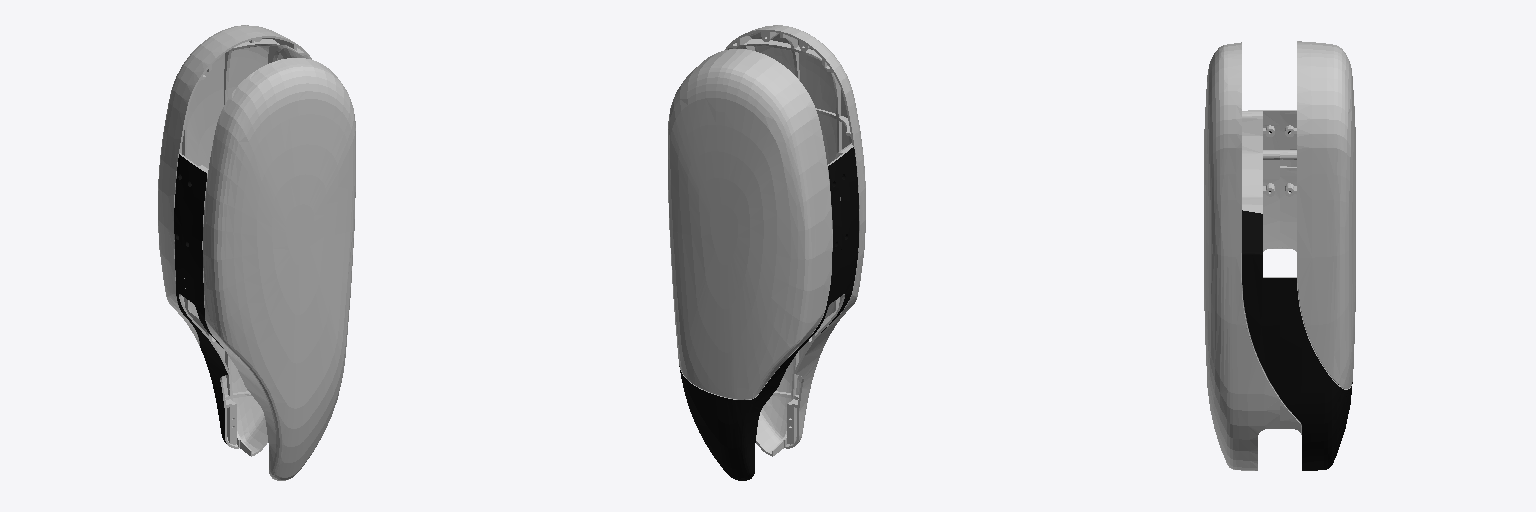
Rendered from left_leg_pitch_link.obj.
3 views of the same model, side by side, from view 1: azimuth 30°, elevation 25°; view 2: azimuth 150°, elevation 25°; view 3: azimuth 270°, elevation 25° (orthographic).
Parts seen in each view (by area): view 1: left_leg_pitch_link; view 2: left_leg_pitch_link; view 3: left_leg_pitch_link.
Part boxes in pixels (left/top/right/bottom): left_leg_pitch_link: left=158, top=25, right=355, bottom=480; left_leg_pitch_link: left=668, top=25, right=865, bottom=480; left_leg_pitch_link: left=1204, top=41, right=1355, bottom=470.
Size of the model in its own units: 0.156 by 0.4245 by 0.14.